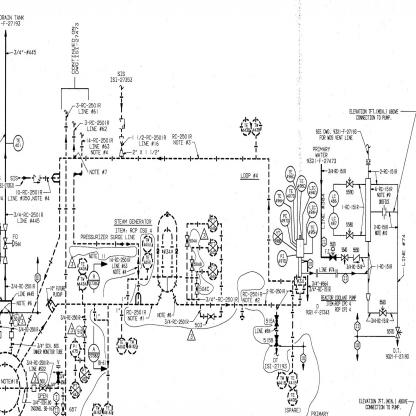LMI: (13, 133, 25, 153), (273, 189, 285, 207), (307, 181, 318, 199), (328, 190, 340, 206), (296, 175, 307, 192), (279, 209, 290, 226), (328, 212, 339, 229), (285, 166, 296, 182), (307, 202, 318, 218), (286, 185, 296, 202), (308, 221, 318, 238)
